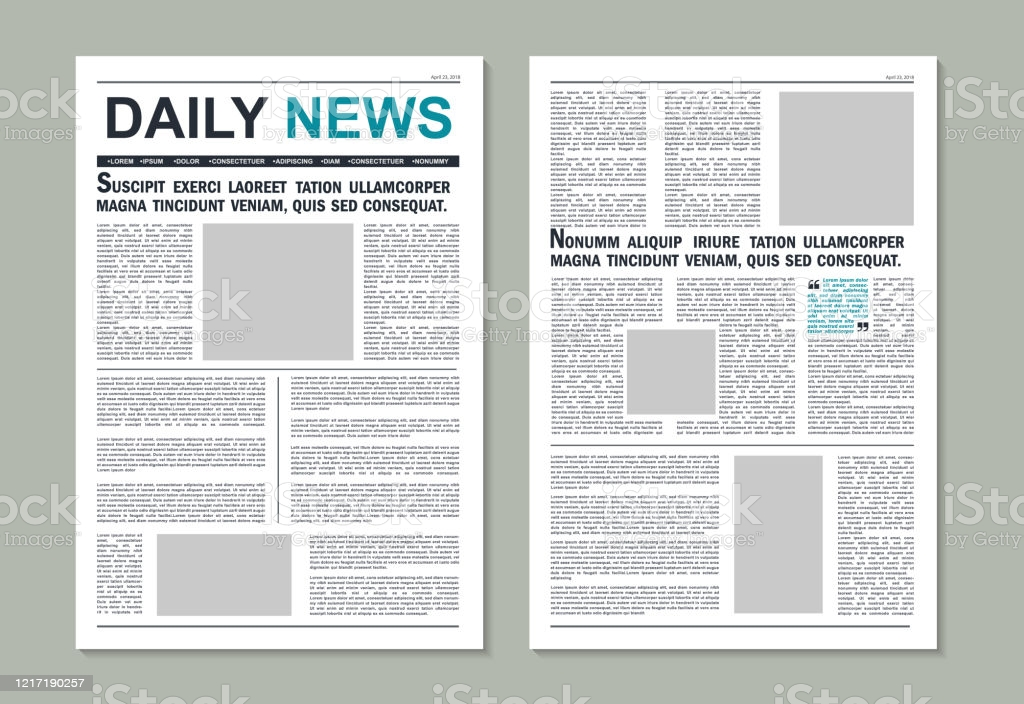news_paper: (507, 20, 965, 682), (48, 45, 508, 674)
